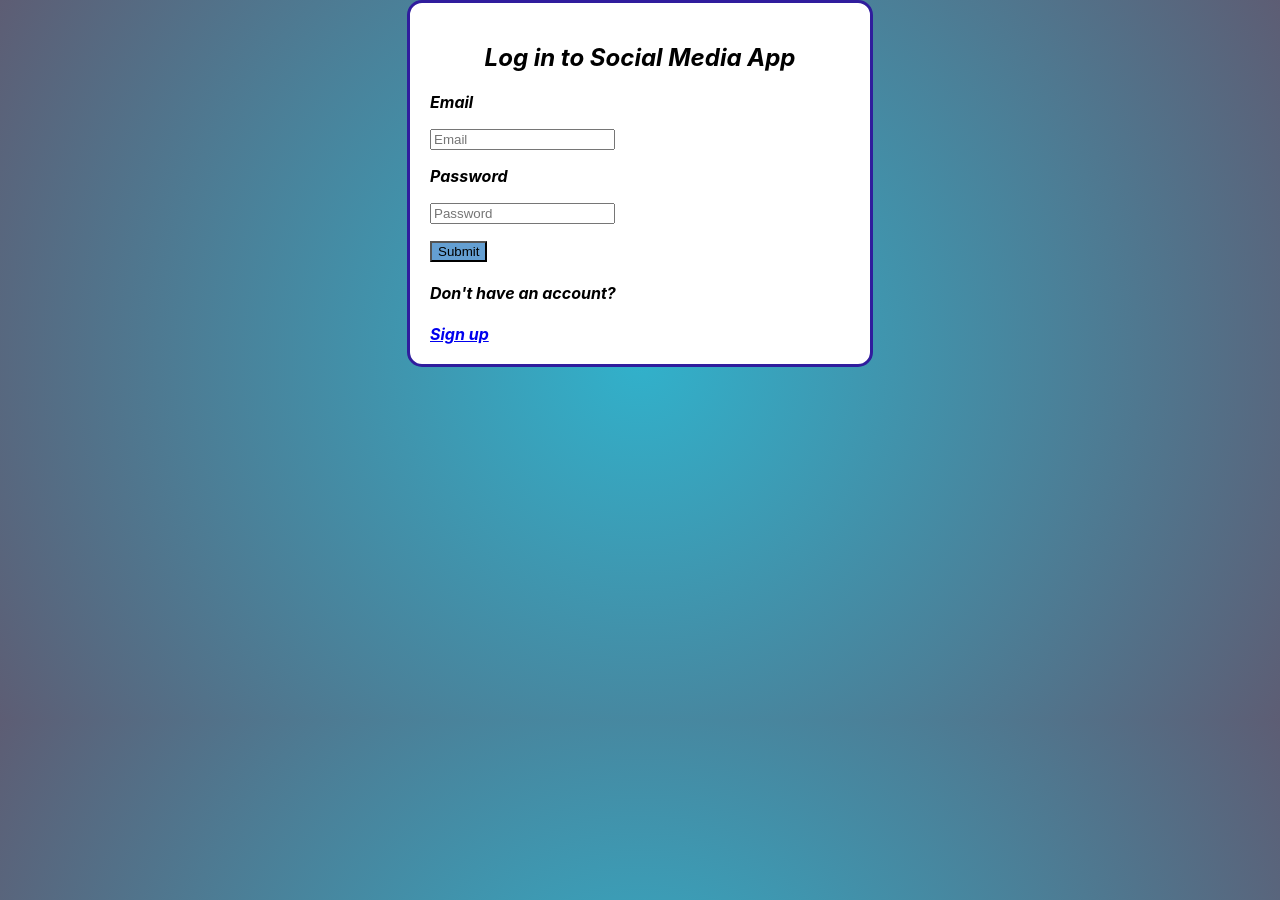
Scenario: Test for LogIn Component › Password must be atleast 8 characters
The image size is (1280, 900).
Type "test1" into the password field with placeholder "Password" at (522, 213), box [430, 203, 615, 224]
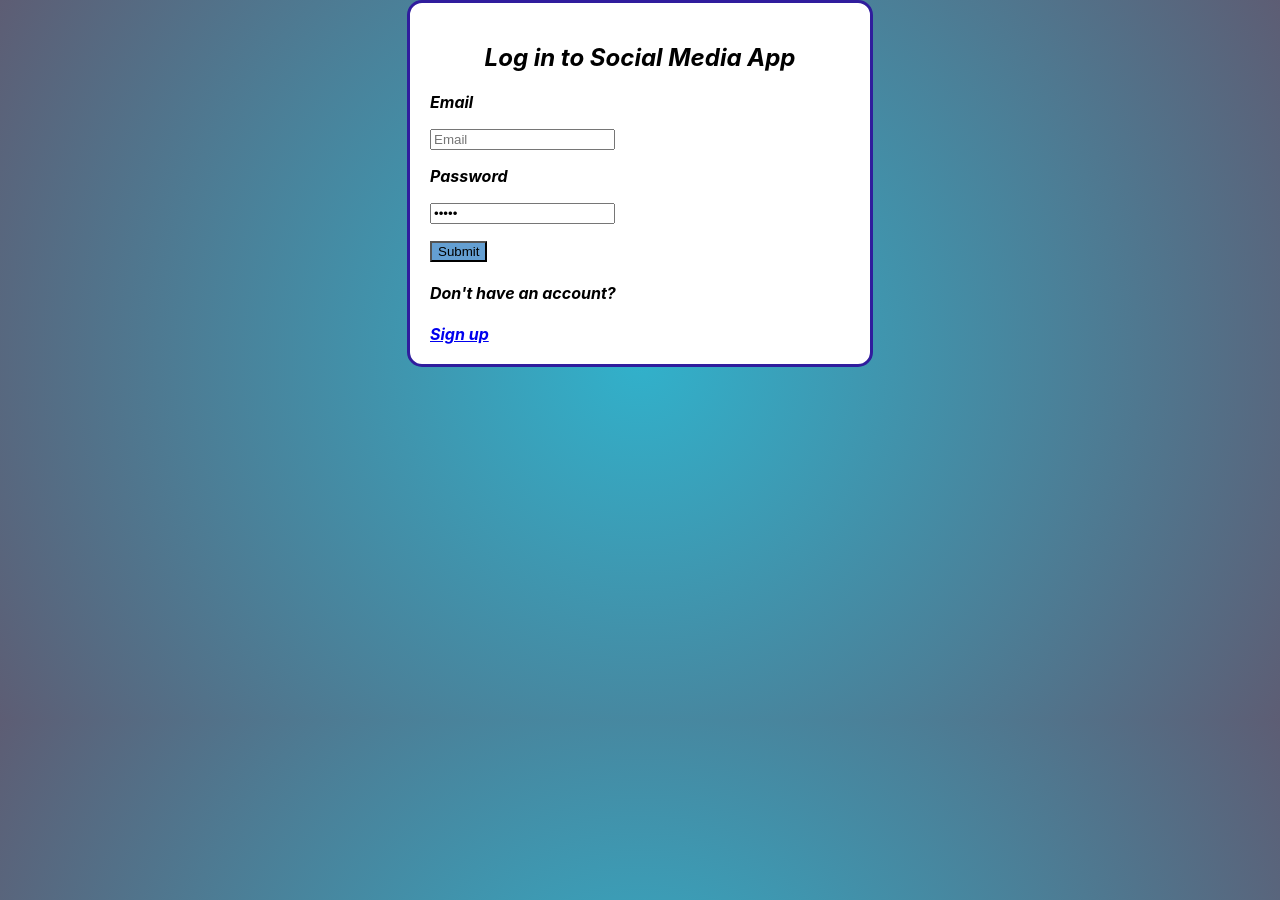
Click the button at (459, 251), box [430, 241, 488, 262]
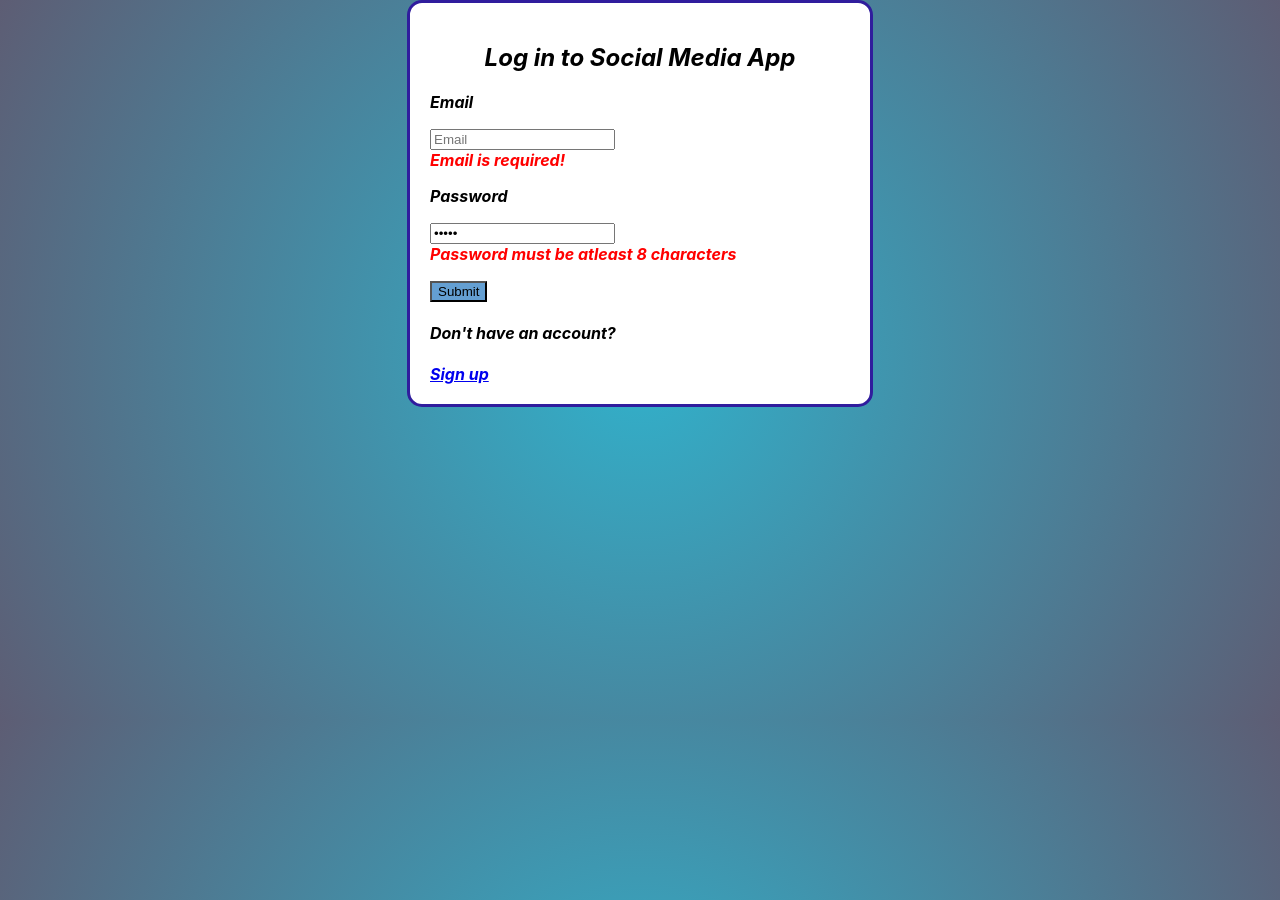
Result: the text "Password must be atleast 8 characters" is shown at [430, 244, 736, 264]
